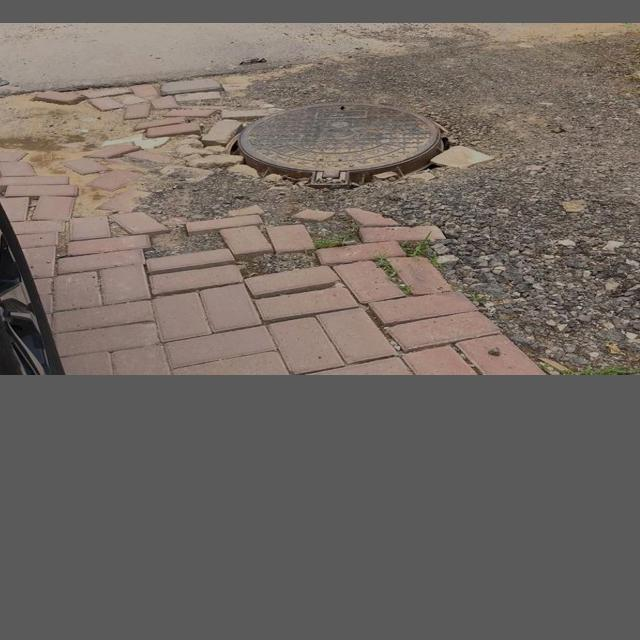circle: (153, 77, 513, 218)
